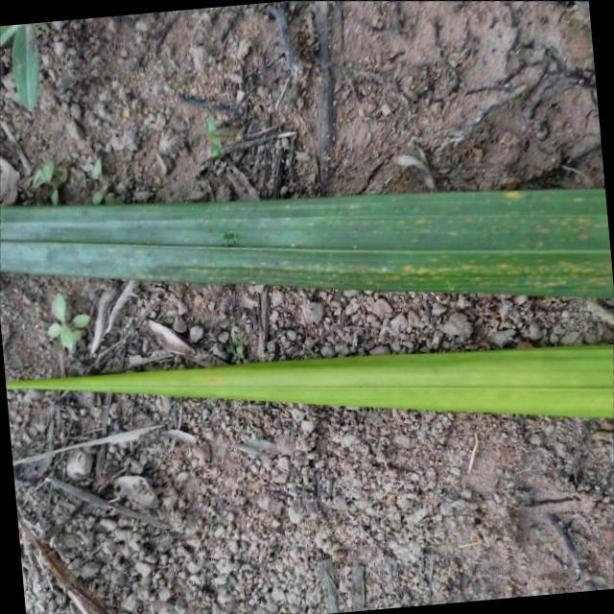nitrogen: (6, 189, 614, 304), (0, 336, 614, 420)
